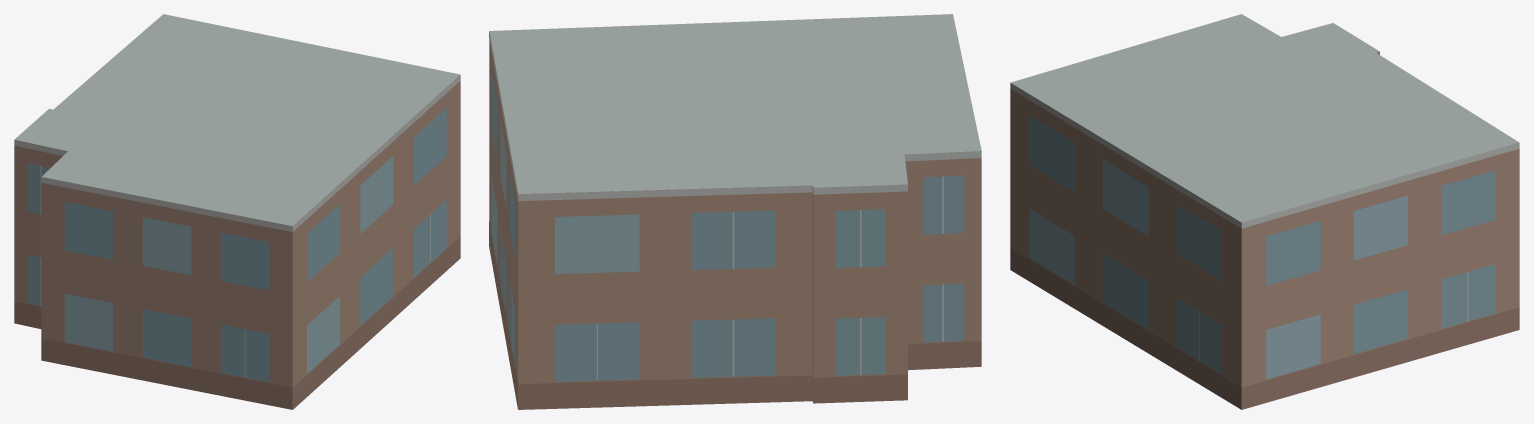
File: survey-upis-32511121.glb
3 views of the same model, side by side, from view 1: azimuth 30°, elevation 25°; view 2: azimuth 150°, elevation 25°; view 3: azimuth 270°, elevation 25° (orthographic). The views are drawn at different scales.
Visible parts, largest first — view 1: survey-upis-32511121.tmp; view 2: survey-upis-32511121.tmp; view 3: survey-upis-32511121.tmp.
Boxes of the visible parts, <box> form: survey-upis-32511121.tmp: <box>14,14,460,409</box>; survey-upis-32511121.tmp: <box>489,14,981,409</box>; survey-upis-32511121.tmp: <box>1010,14,1519,409</box>.
Size of the model in its own units: 18.17 by 7.6 by 18.74.
